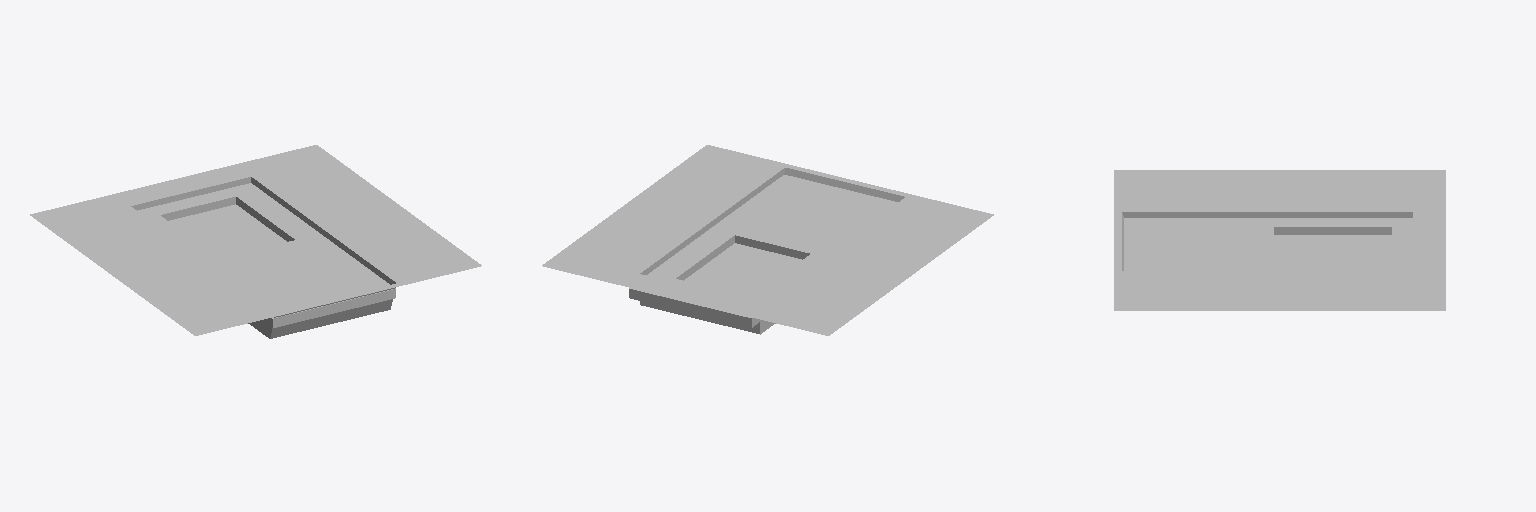
The model's file is door1.obj.
3 views of the same model, side by side, from view 1: azimuth 30°, elevation 25°; view 2: azimuth 150°, elevation 25°; view 3: azimuth 270°, elevation 25° (orthographic).
Parts seen in each view (by area): view 1: door5:pPlane5, door5:pCube6; view 2: door5:pPlane5, door5:pCube6; view 3: door5:pPlane5, door5:pCube6.
Part boxes in pixels (x1,y1,x2,y2): door5:pPlane5: (30, 145, 481, 338); door5:pCube6: (138, 183, 395, 327); door5:pPlane5: (542, 145, 993, 335); door5:pCube6: (629, 175, 897, 327); door5:pPlane5: (1114, 170, 1445, 310); door5:pCube6: (1124, 218, 1412, 270).
Bounding box in the file's own units: 1 × 0.1035 × 1.